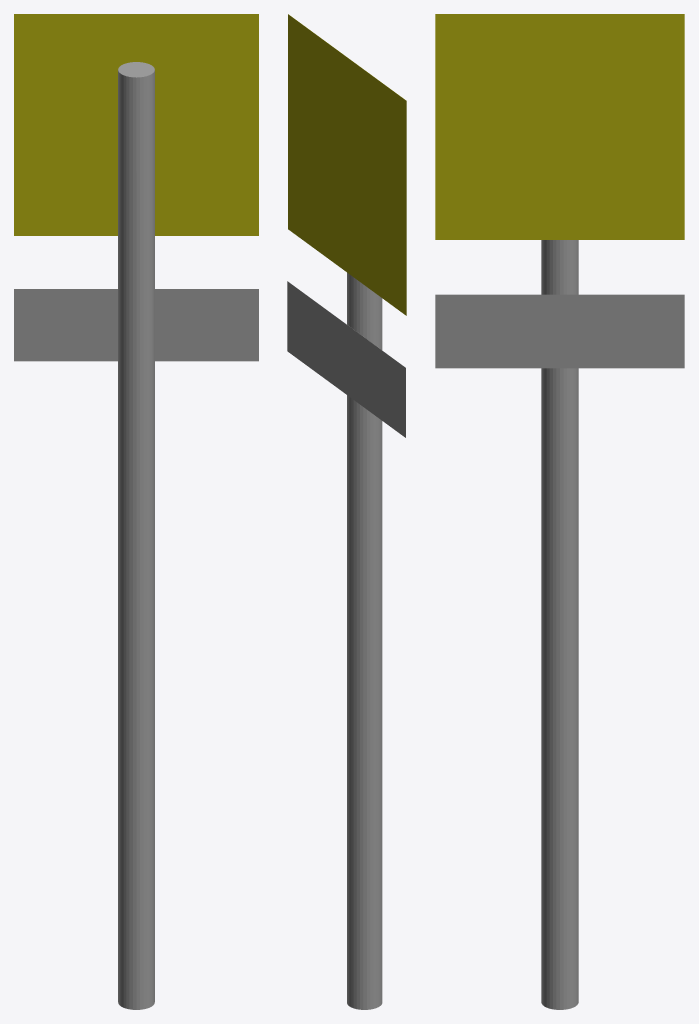
File: JapanStreetSign5WIP.fbx
3 views of the same model, side by side, from view 1: azimuth 90°, elevation 25°; view 2: azimuth 210°, elevation 25°; view 3: azimuth 270°, elevation 25° (orthographic). The views are drawn at different scales.
Visible parts, largest first — view 1: Cylinder; view 2: Cylinder; view 3: Cylinder.
Boxes of the visible parts, bbox=[...] form: Cylinder: bbox=[14, 14, 258, 1009]; Cylinder: bbox=[287, 14, 406, 1009]; Cylinder: bbox=[435, 14, 684, 1009].
Bounding box in the file's own units: 12.89 × 349 × 79.05.
